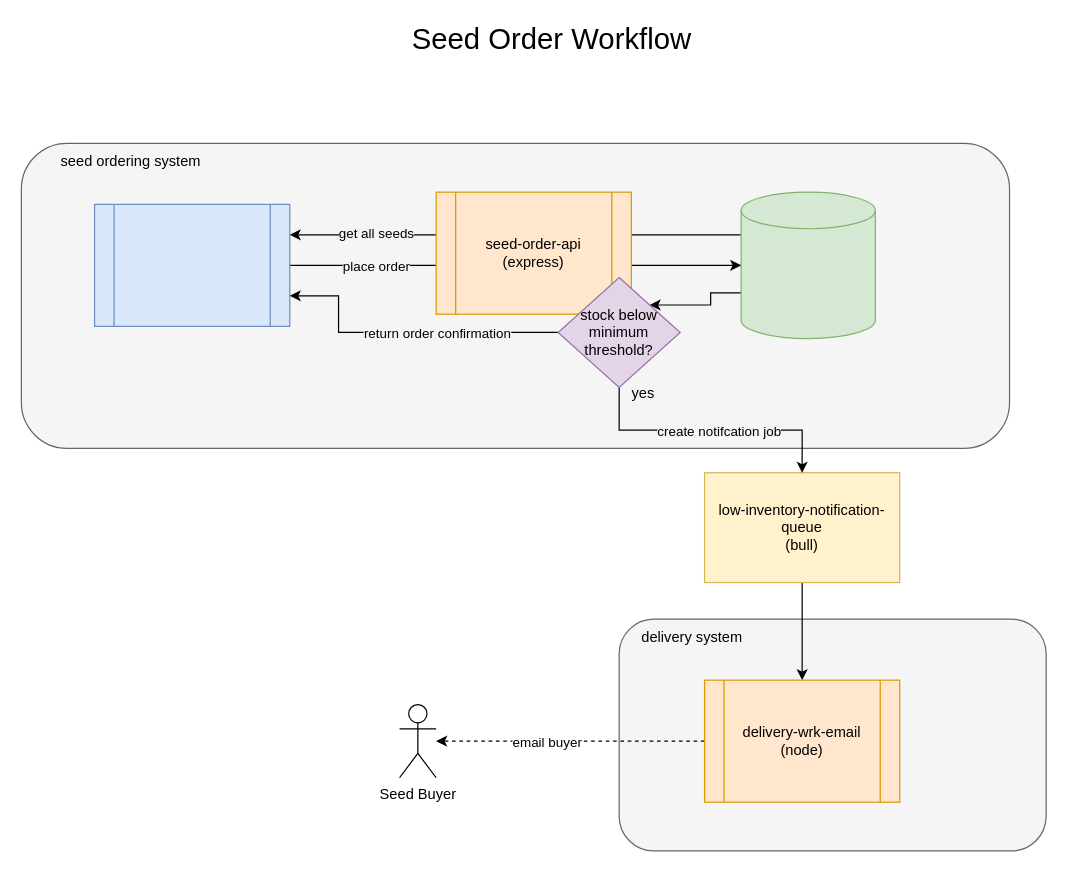
The diagram is 1068 pixels wide and 872 high, and some of its shapes have lost their labels. The centre of each missing label's shape, as x and y in pixels:
Seed DB (postgres): pixel 807 265
seed-order-client (react): pixel 191 264
